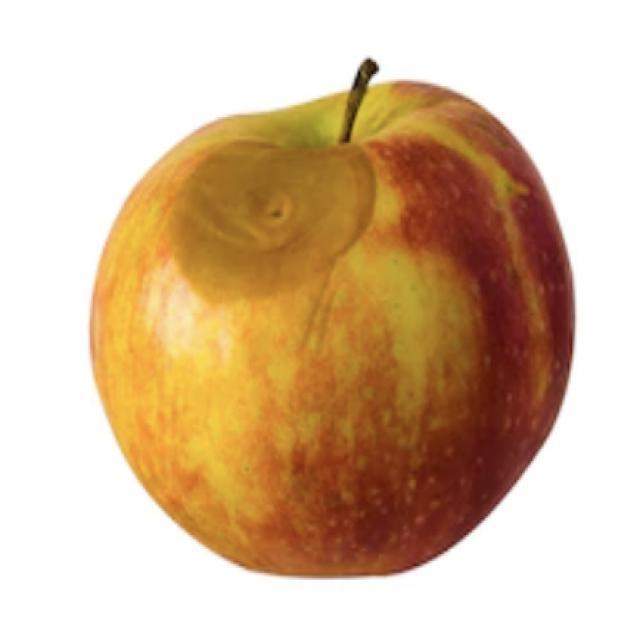Rotten: (92, 69, 578, 574)
